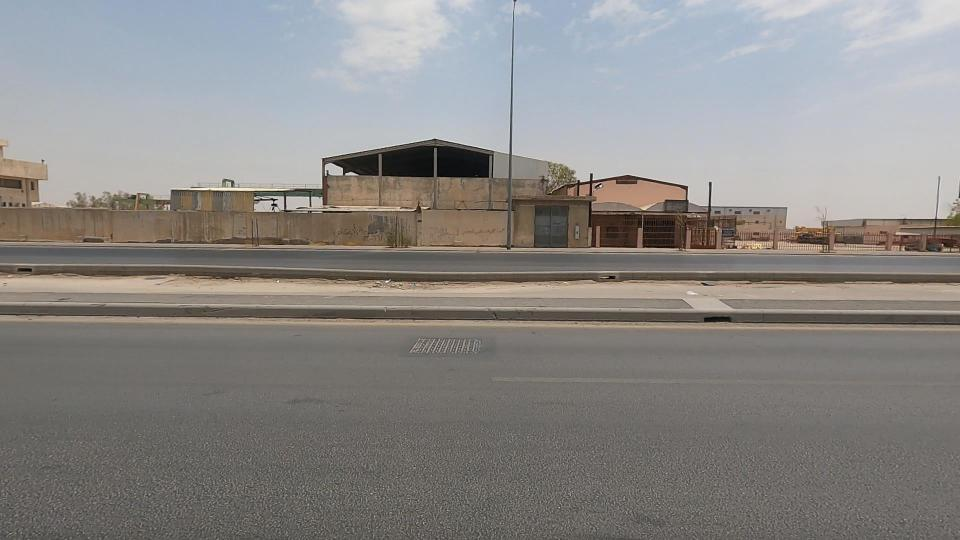GARBAGE: (332, 252, 437, 315)
